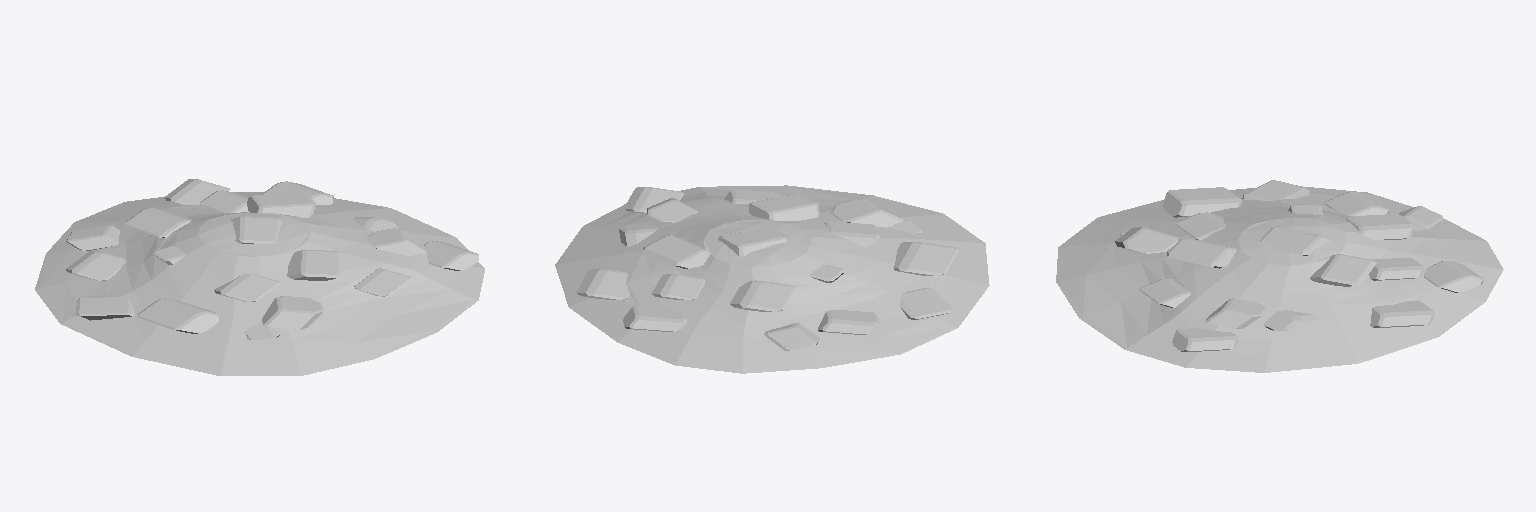
Rendered from coal_deposit.obj.
The picture shows the model from 3 angles: view 1: azimuth 30°, elevation 25°; view 2: azimuth 150°, elevation 25°; view 3: azimuth 270°, elevation 25°; orthographic projection.
Visible parts, largest first — view 1: Cone; view 2: Cone; view 3: Cone.
Boxes of the visible parts, x1=… form: Cone: x1=35, y1=179, x2=484, y2=375; Cone: x1=555, y1=185, x2=989, y2=373; Cone: x1=1056, y1=180, x2=1503, y2=372.
Size of the model in its own units: 7.73 by 0.8808 by 7.77.